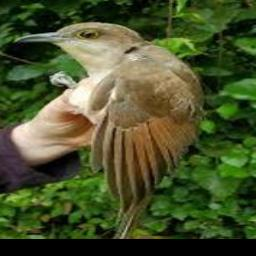Cuckoo: (14, 22, 205, 238)
